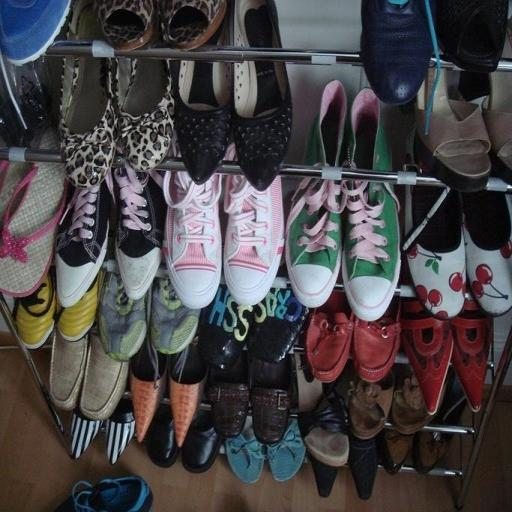shoe: (285, 80, 347, 308), (341, 88, 400, 322), (405, 186, 466, 319), (163, 171, 222, 308), (361, 0, 436, 105), (224, 175, 284, 305), (294, 353, 348, 495), (54, 176, 112, 308), (113, 165, 166, 300), (352, 297, 401, 438), (400, 299, 454, 415), (462, 191, 512, 316), (411, 372, 466, 474), (436, 0, 508, 73), (447, 300, 493, 412), (198, 284, 253, 370), (246, 288, 308, 363), (305, 291, 355, 382), (79, 330, 129, 421), (97, 273, 147, 361), (168, 343, 208, 448), (298, 388, 350, 467), (130, 339, 168, 443), (150, 277, 200, 354), (250, 355, 293, 444), (206, 352, 250, 438), (55, 475, 153, 512), (14, 269, 56, 349), (56, 271, 103, 342), (348, 371, 394, 440), (49, 329, 88, 410), (390, 365, 433, 435), (225, 418, 265, 484), (182, 409, 222, 473), (267, 419, 306, 482), (146, 404, 180, 468), (348, 431, 378, 500), (106, 399, 135, 464), (376, 429, 413, 475), (70, 408, 102, 459), (308, 455, 339, 498)
